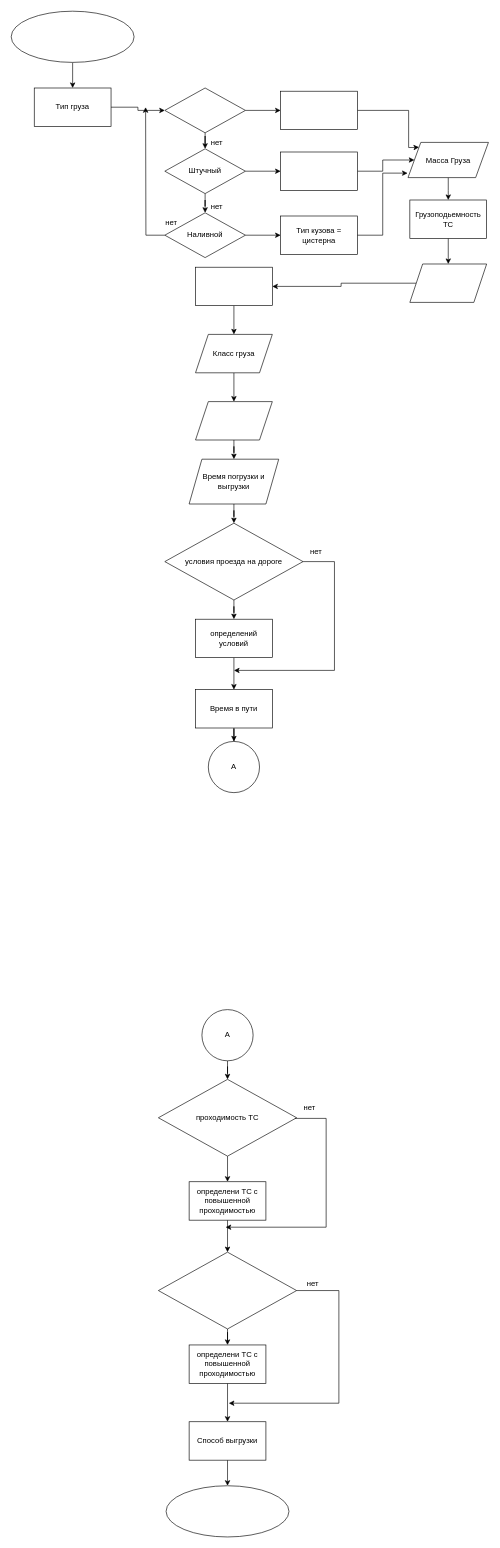
Image size: 500x1548. Some labels were removed from this diagram. Each missing label, with the box of its shape:
габаритные ограничения: (158, 1252, 297, 1329)
Год выпуска ТС: (195, 401, 272, 440)
конец: (165, 1485, 289, 1537)
Навалочный: (164, 87, 245, 133)
Начало: (11, 11, 134, 62)
Объем груза: (409, 263, 487, 302)
Объем кузова: (195, 267, 272, 306)
Тип кузова = Самосвальный: (280, 91, 357, 130)
Тип кузова = фургон: (280, 151, 357, 190)
